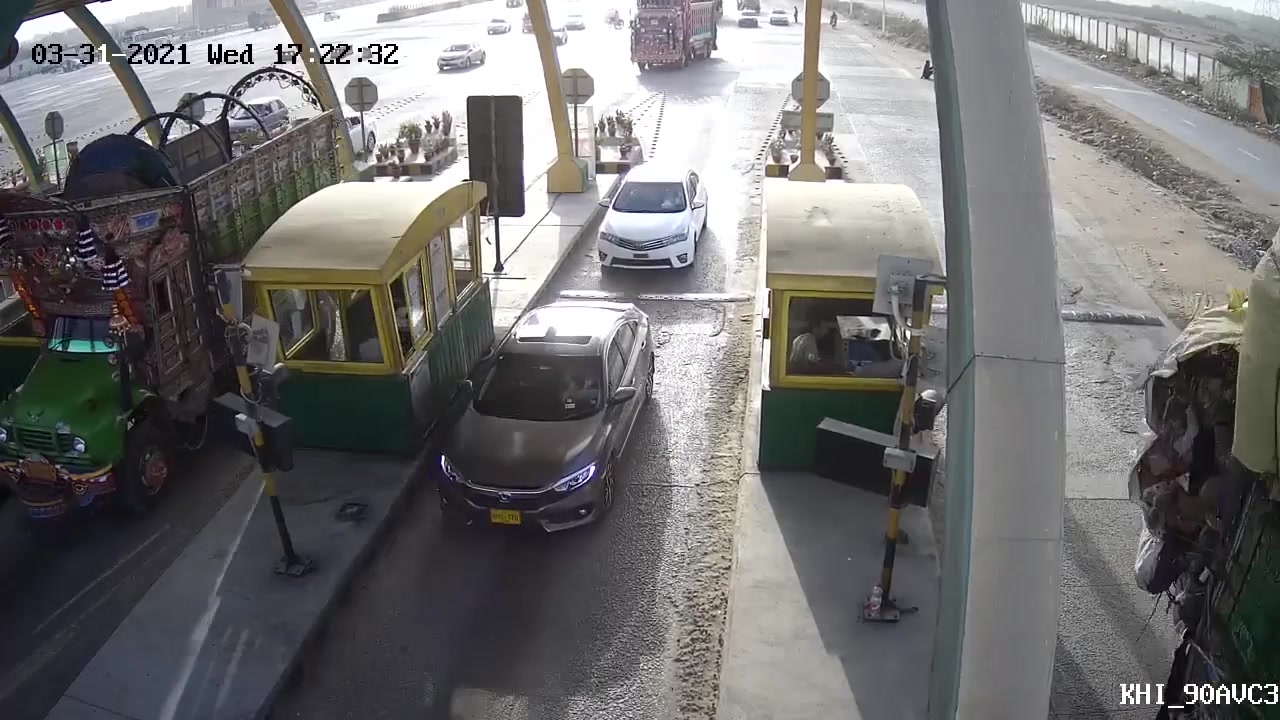F1: (426, 287, 664, 552), (584, 155, 716, 277)
